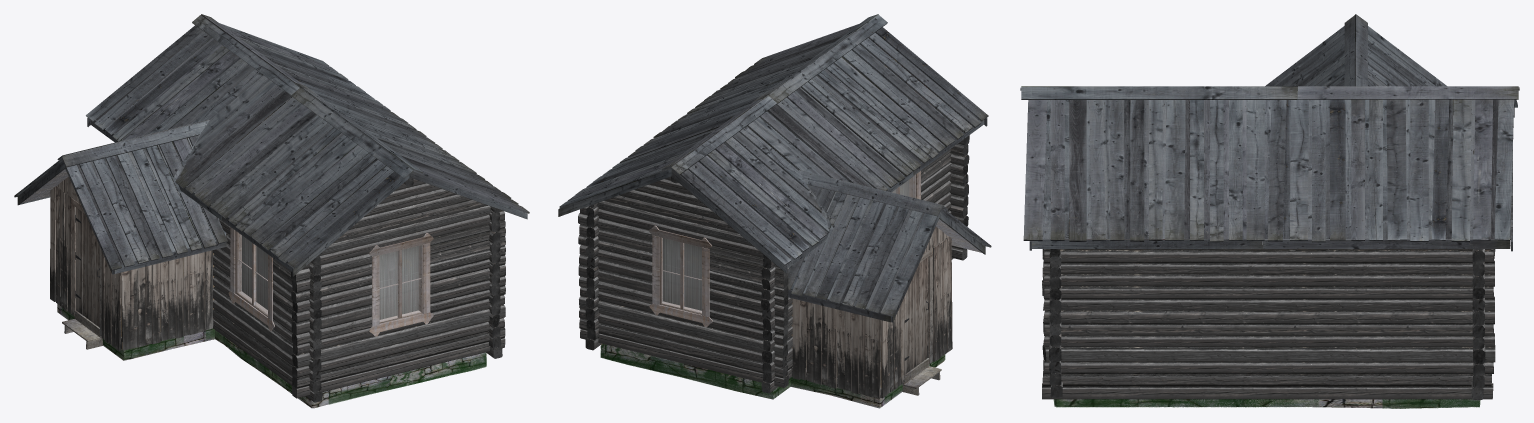
3 renders of one model, left to right at view 1: azimuth 30°, elevation 25°; view 2: azimuth 150°, elevation 25°; view 3: azimuth 270°, elevation 25°, orthographic. The views are drawn at different scales.
Visible parts, largest first — view 1: Box080, Box053, Box496, Box183, Box006, Box493, Plane002, Box434, Box366, Box008, Box005, Box003 (+94 smaller); view 2: Box080, Box053, Box496, Box234, Box434, Box192, Box494, Plane003, Box375, Box236, Box232, Box233 (+96 smaller); view 3: Box120, Box267, Box276, Box271, Box265, Box273, Box274, Box269, Box275, Box266, Box272, Box270 (+37 smaller).
Boxes of the visible parts, x1,y1,x2,y2 form: Box080: (95,34,393,261); Box053: (57,304,486,408); Box496: (61,307,486,404); Box183: (77,133,226,264); Box006: (292,304,505,367); Box493: (380,246,420,321); Plane002: (379,246,418,319); Box434: (76,207,99,326); Box366: (369,233,433,336); Box008: (292,327,505,388); Box005: (292,318,504,377); Box003: (292,338,505,398); Box080: (679,32,978,258); Box053: (601,343,944,408); Box496: (600,344,945,402); Box234: (579,296,787,358); Box434: (904,257,928,374); Box192: (788,184,924,312); Box494: (662,238,701,312); Plane003: (663,238,701,310); Box375: (649,225,712,327); Box236: (579,318,787,378); Box232: (580,329,788,387); Box233: (579,308,787,367); Box120: (1042,99,1510,239); Box267: (1042,345,1495,362); Box276: (1043,249,1493,263); Box271: (1043,310,1494,324); Box265: (1042,383,1493,399); Box273: (1043,286,1493,299); Box274: (1043,274,1494,286); Box269: (1042,371,1491,386); Box275: (1043,260,1494,274); Box266: (1043,359,1493,373); Box272: (1043,296,1494,310); Box270: (1043,324,1493,335).
Bounding box in the file's own units: 118 × 79.02 × 132.
Materials: 14 (13 with a texture image).
